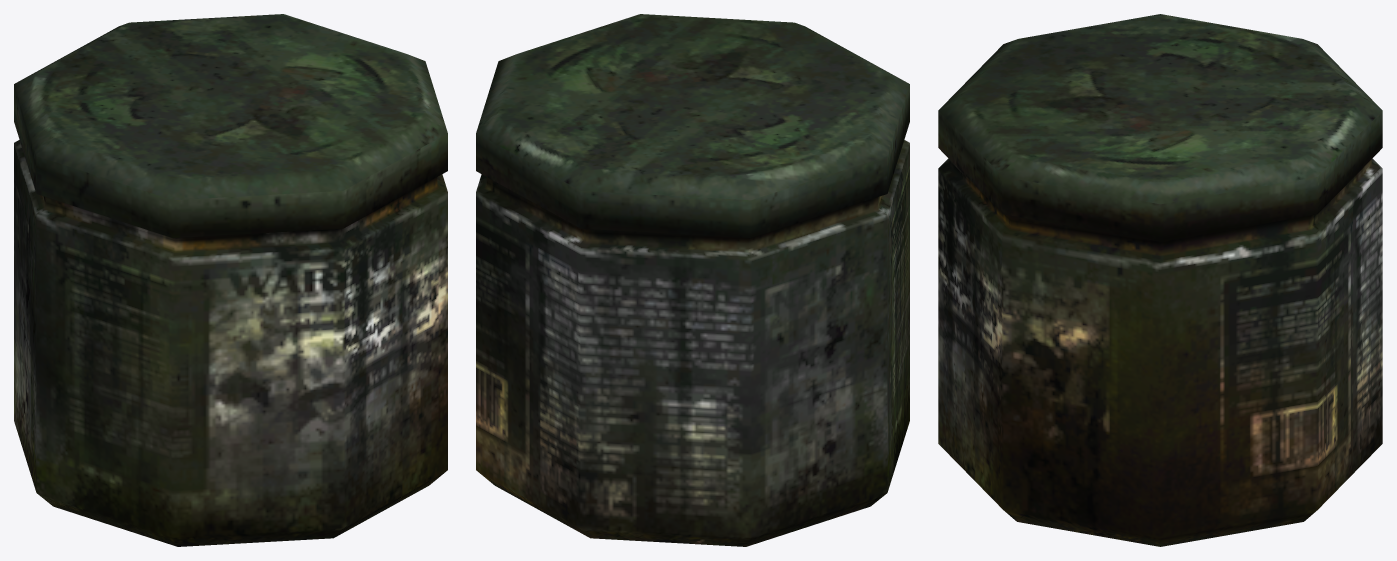
The model's file is bathRoom12.FBX.
The picture shows the model from 3 angles, left to right: view 1: azimuth 30°, elevation 25°; view 2: azimuth 150°, elevation 25°; view 3: azimuth 270°, elevation 25°; orthographic projection.
Visible parts, largest first — view 1: SM_Bathroom12; view 2: SM_Bathroom12; view 3: SM_Bathroom12.
Boxes of the visible parts, x1,y1,x2,y2 form: SM_Bathroom12: [14, 14, 447, 546]; SM_Bathroom12: [476, 14, 909, 546]; SM_Bathroom12: [938, 14, 1382, 546].
Size of the model in its own units: 10.9 by 9.81 by 10.9.
Materials: 1 (1 with a texture image).
